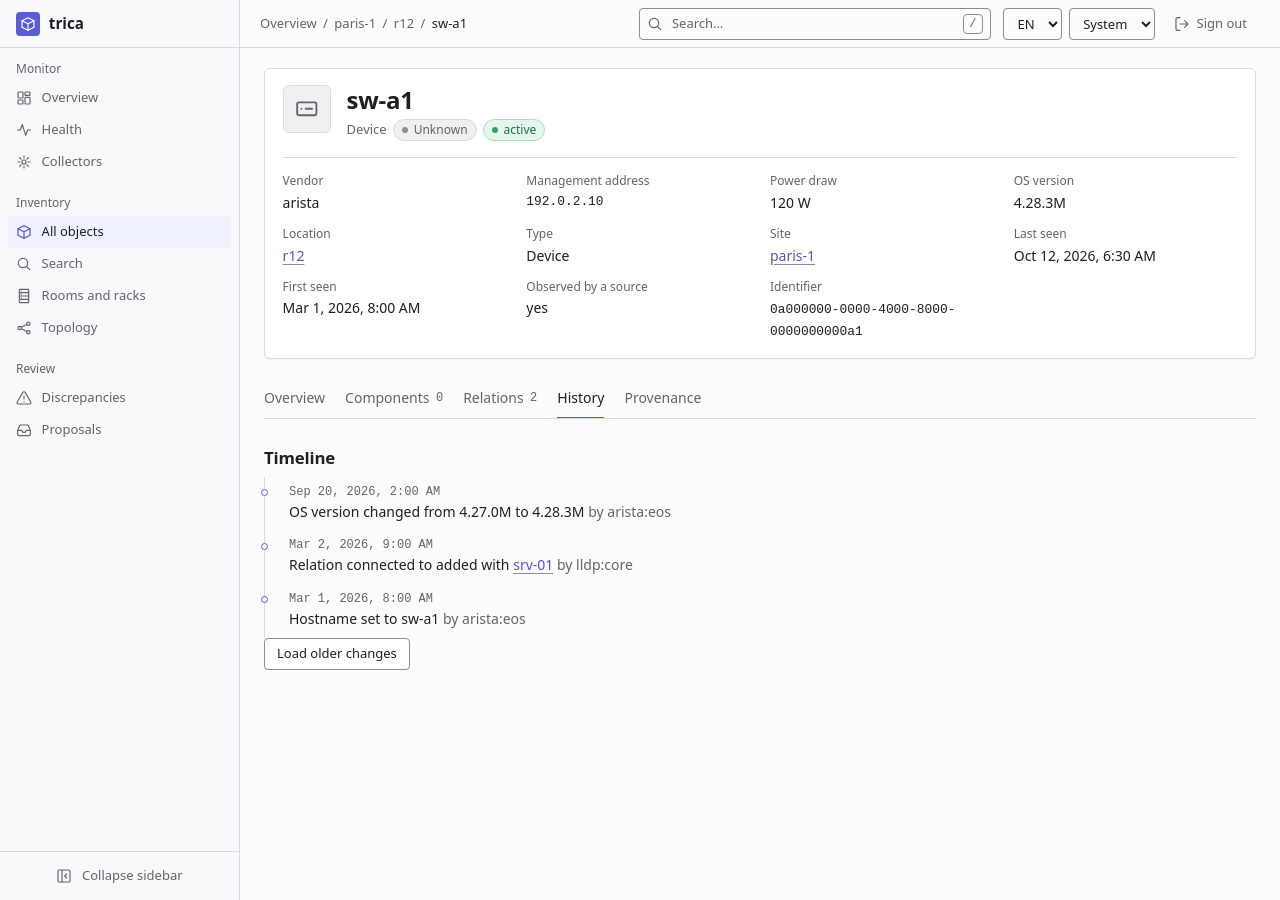
Test: object page timeline › loads older changes on demand, asking for the next offset
The width and height of the screenshot is (1280, 900).
Click the button "Load older changes" at (337, 654), box [264,638,410,670]
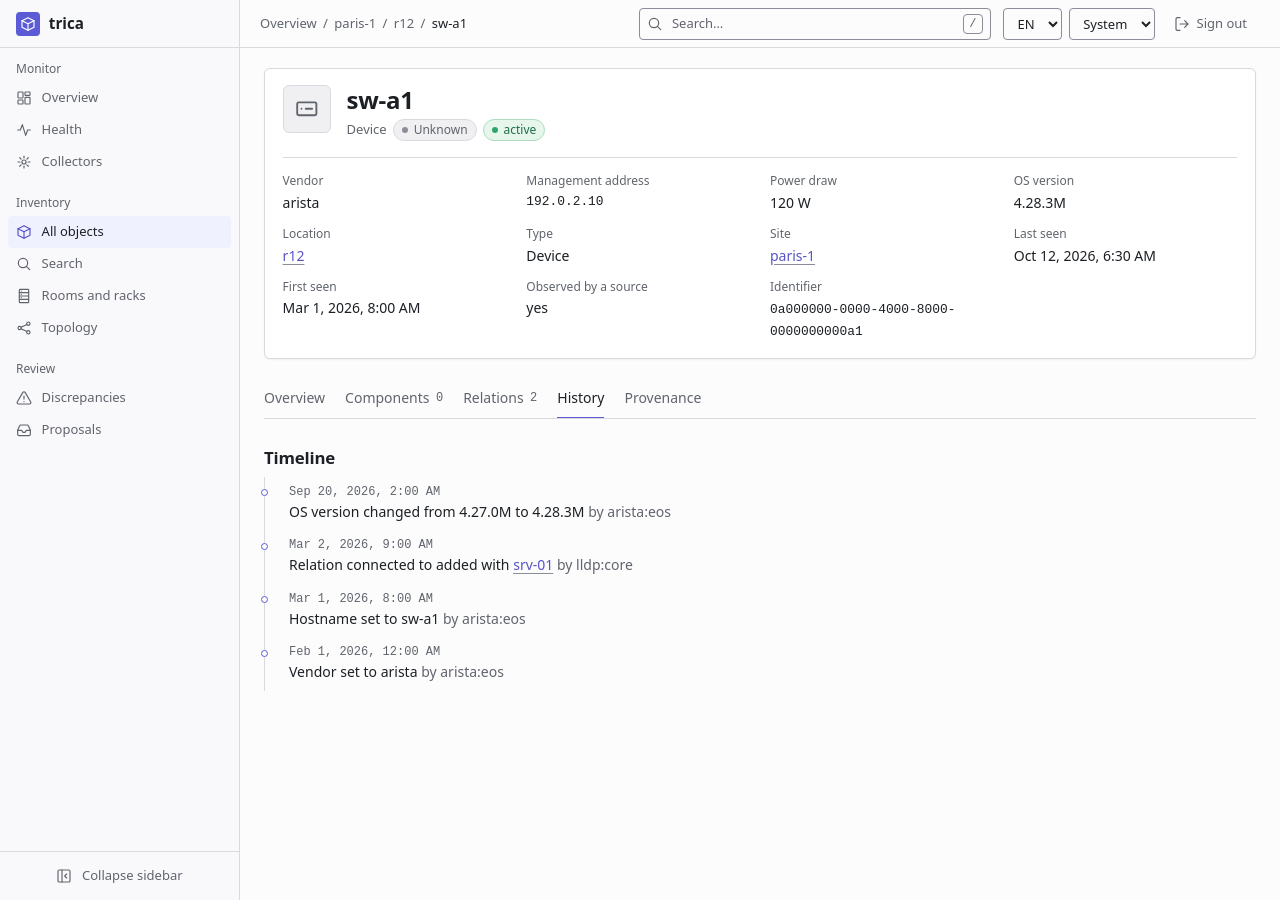
expect the list item "Feb 1, 2026, 12:00 AM Vendor set to arista by arista:eos" is shown: met, box [289,645,504,681]
expect the button "Load older changes" is gone: met
